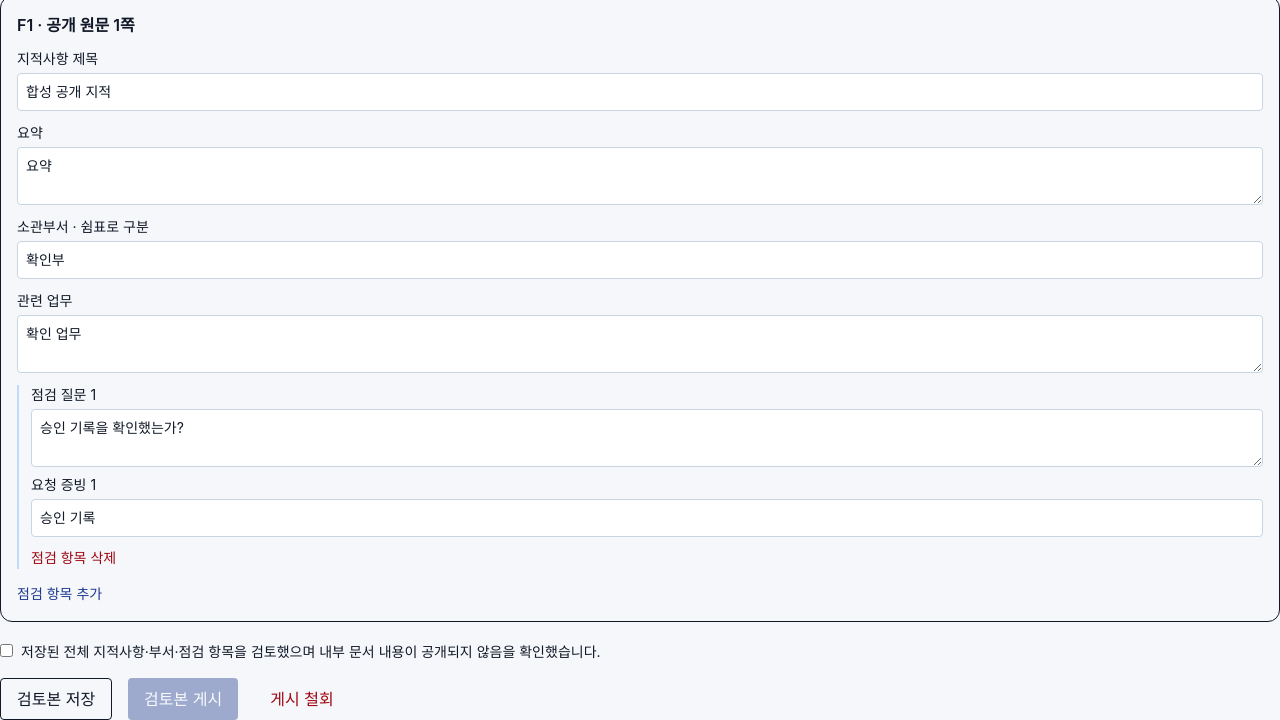
Test: publication review UI › requires saved edits and explicit review, keeping unsaved changes blocked after withdrawal
(page scrolled)
Expected: the button "검토본 게시" is disabled, left=128, top=678, right=238, bottom=719
Click the checkbox. click: (6, 650)
box: left=0, top=644, right=13, bottom=657
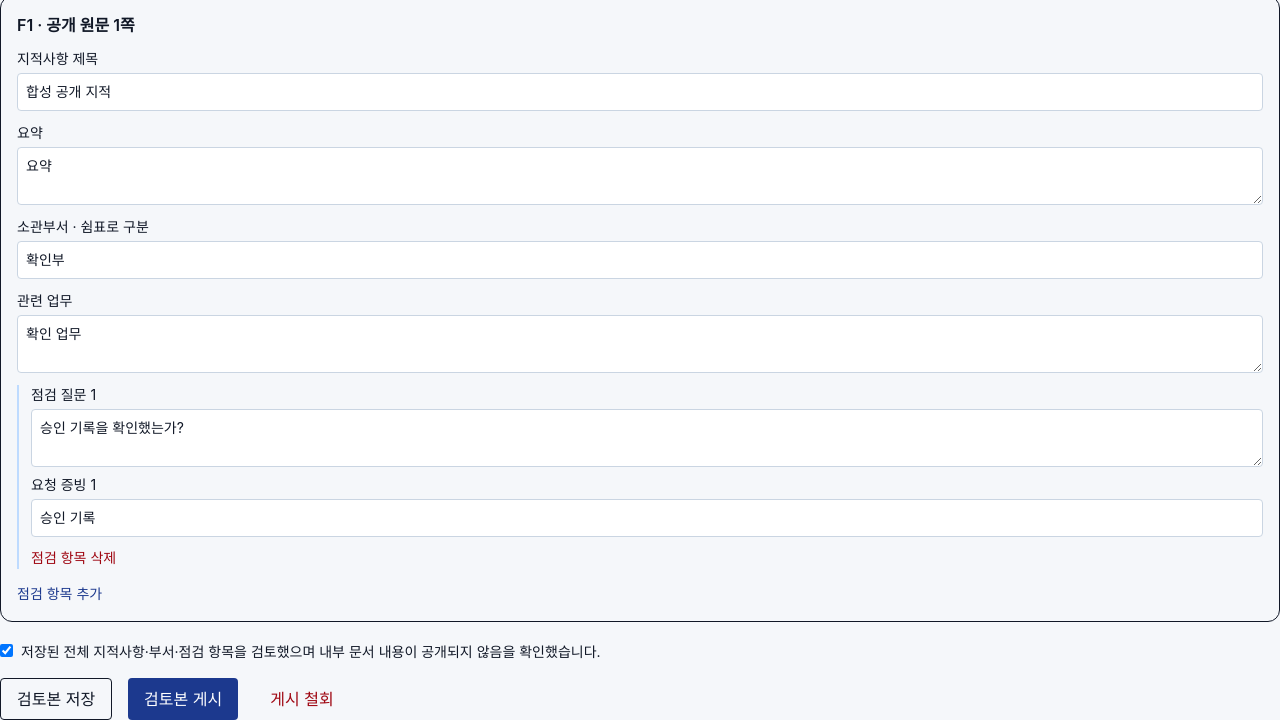
Now the button "검토본 게시" is enabled, box left=128, top=678, right=238, bottom=719
Replace the text in the text box labelled "관련 업무" with "수정된 확인 업무". click: (640, 344)
box: left=17, top=315, right=1263, bottom=373
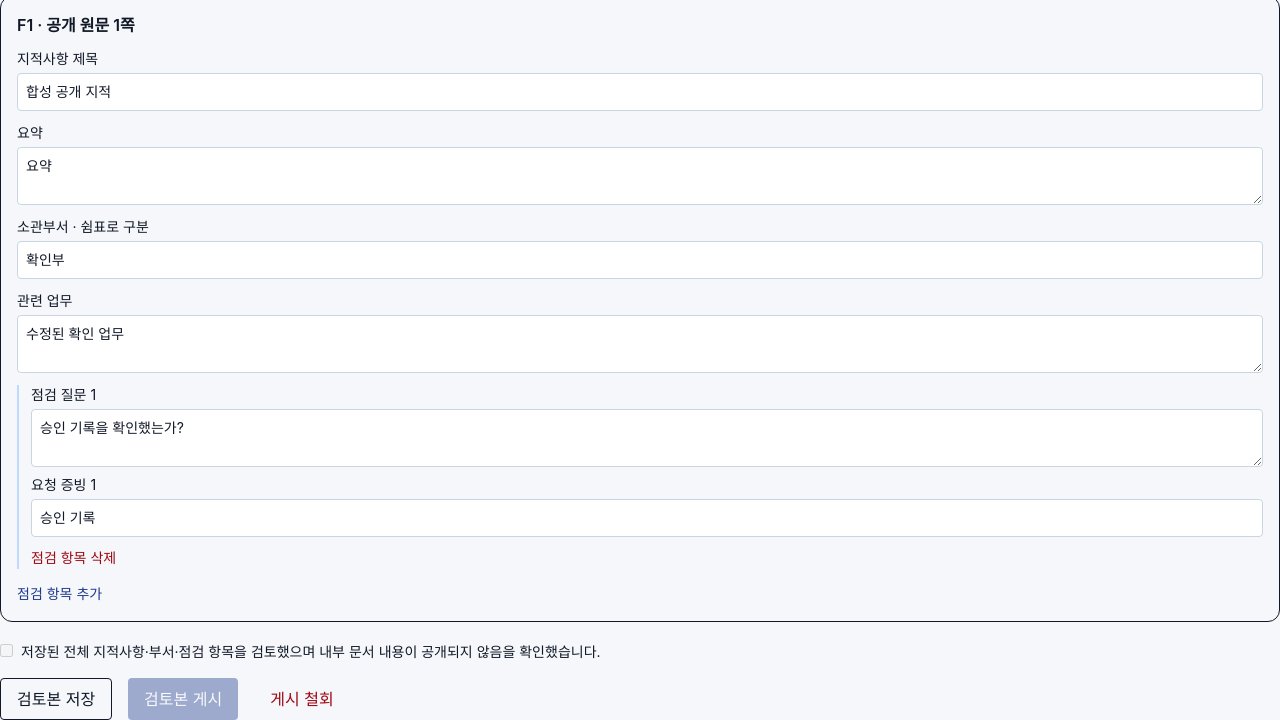
Now the checkbox is disabled, box left=0, top=644, right=13, bottom=657
Click the button "게시 철회". click: (302, 699)
box: left=254, top=678, right=350, bottom=719
(page scrolled)
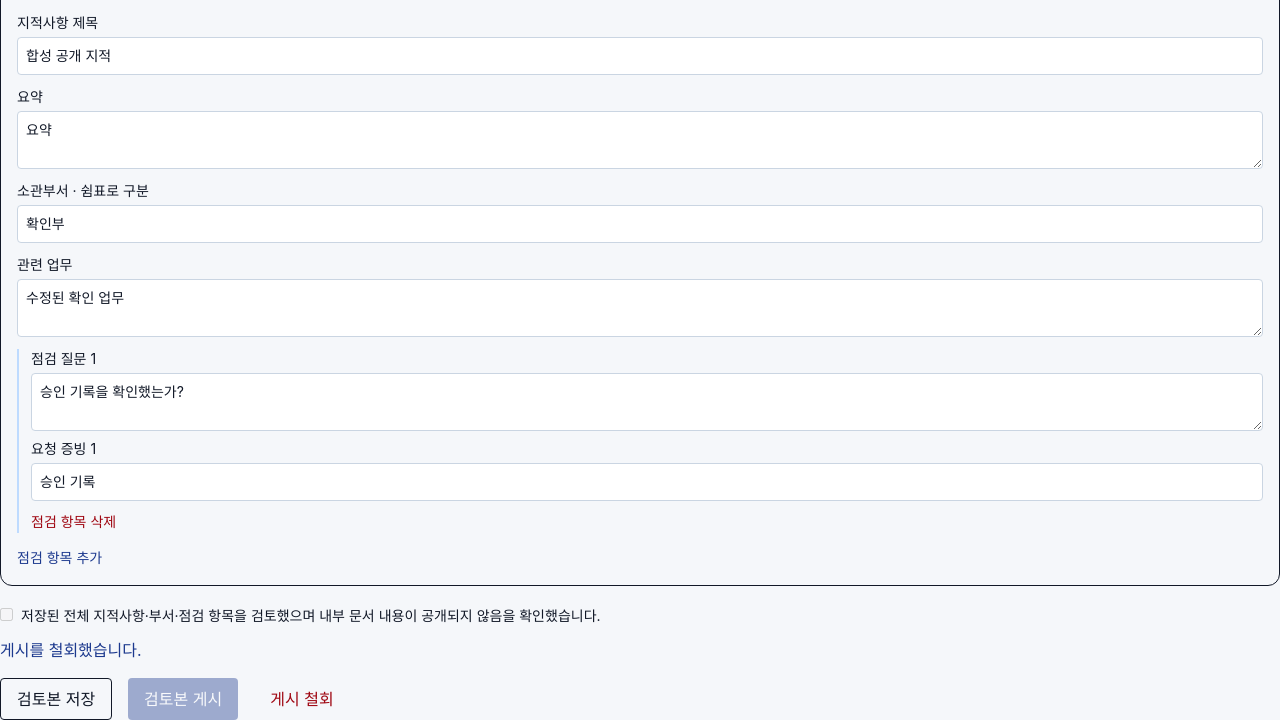
Now the checkbox is disabled, box left=0, top=608, right=13, bottom=621
Now the text "게시를 철회했습니다." is shown, box left=0, top=640, right=142, bottom=660
Click the button "검토본 저장". click: (56, 699)
box: left=0, top=678, right=112, bottom=719
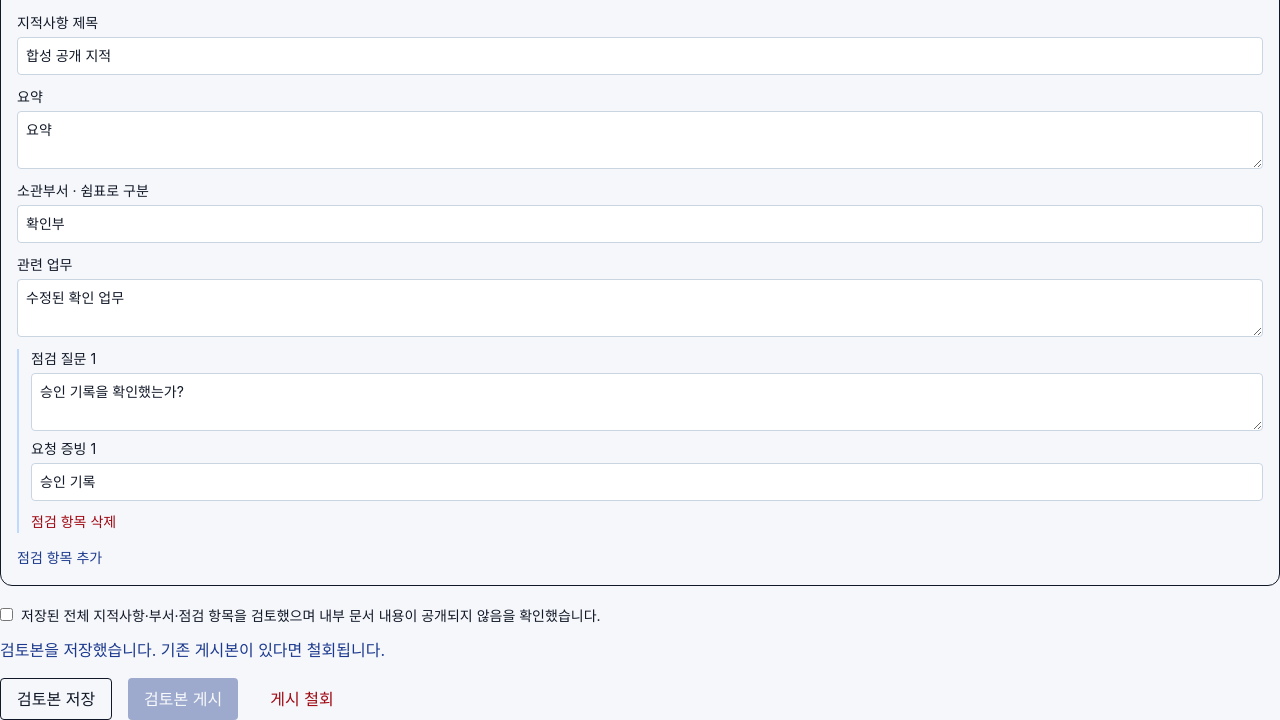
Now the text "검토본을 저장했습니다. 기존 게시본이 있다면 철회됩니다." is shown, box left=0, top=640, right=385, bottom=660
Now the checkbox is enabled, box left=0, top=608, right=13, bottom=621
